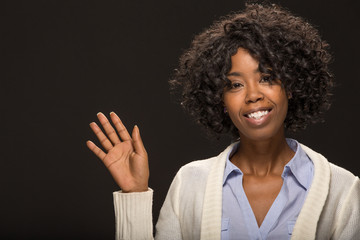open_hand: (74, 104, 159, 193)
